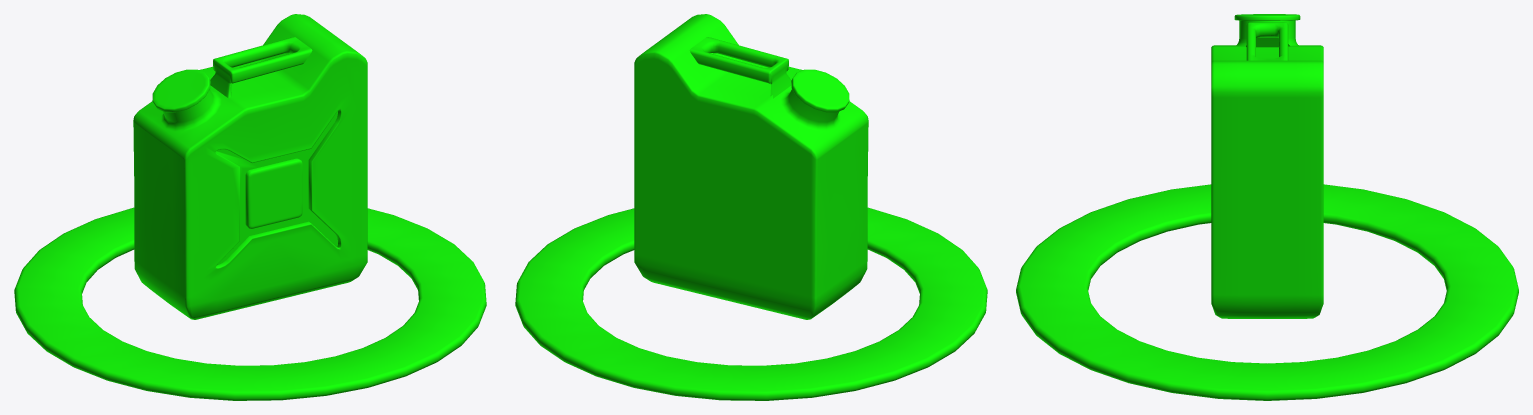
Rendered from canister.DAE.
3 views of the same model, side by side, from view 1: azimuth 30°, elevation 25°; view 2: azimuth 150°, elevation 25°; view 3: azimuth 270°, elevation 25° (orthographic). The views are drawn at different scales.
Visible parts, largest first — view 1: Cube; view 2: Cube; view 3: Cube.
Boxes of the visible parts, left/top/right/bottom form: Cube: left=14, top=14, right=486, bottom=400; Cube: left=515, top=14, right=987, bottom=400; Cube: left=1016, top=14, right=1518, bottom=400.
Size of the model in its own units: 176 by 104 by 176.
